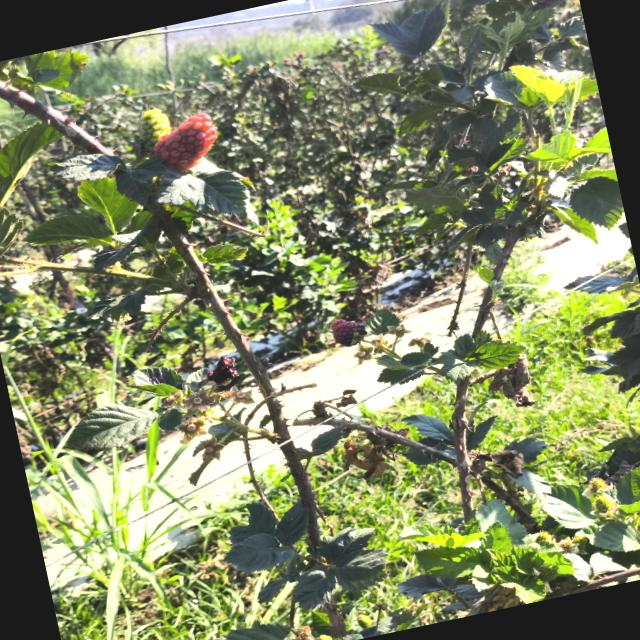marron: (331, 318, 366, 346)
naranja: (154, 114, 216, 172)
verde: (139, 108, 171, 154)
